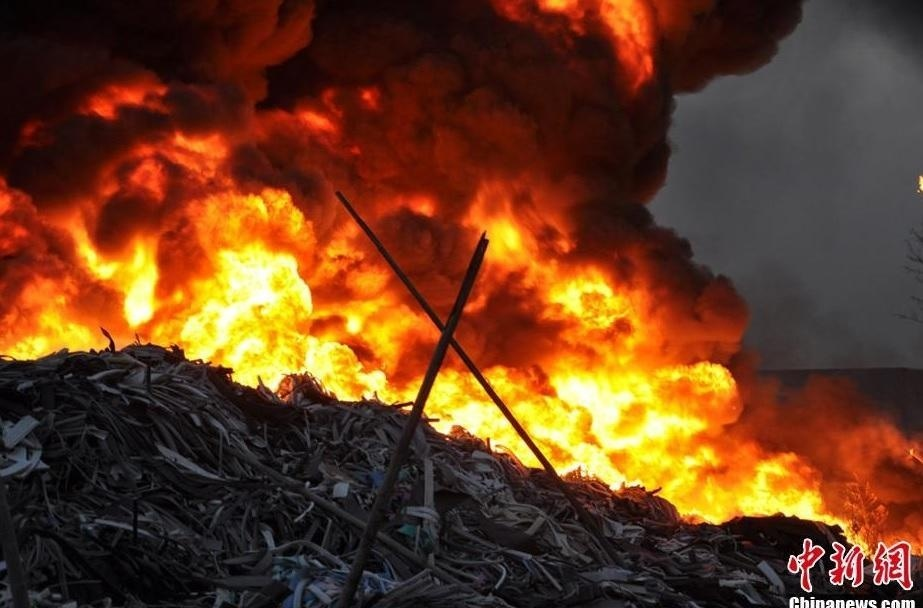fire: (27, 111, 646, 439)
